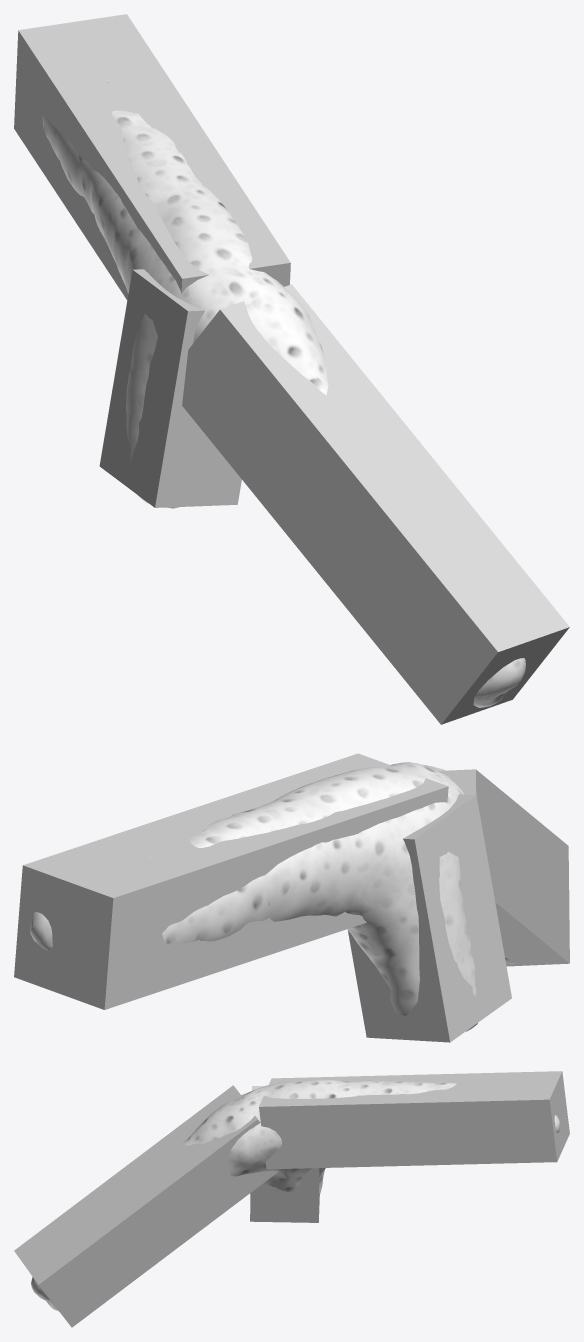
Rendered from Coral_1.glb.
The picture shows the model from 3 angles, top to bottom: view 1: azimuth 30°, elevation 25°; view 2: azimuth 150°, elevation 25°; view 3: azimuth 270°, elevation 25°; orthographic projection. The views are drawn at different scales.
Parts seen in each view (by area): view 1: Cube.001, Cube, A03612_Koralle1.001, Cube.002; view 2: Cube, A03612_Koralle1.001, Cube.002, Cube.001; view 3: Cube, Cube.001, A03612_Koralle1.001, Cube.002.
Boxes of the visible parts, <box> form: Cube.001: <box>182,284,569,724</box>; Cube: <box>14,14,290,299</box>; A03612_Koralle1.001: <box>42,80,525,707</box>; Cube.002: <box>99,269,241,507</box>; Cube: <box>14,753,448,1009</box>; A03612_Koralle1.001: <box>30,762,515,1031</box>; Cube.002: <box>348,794,511,1042</box>; Cube.001: <box>437,769,569,966</box>; Cube: <box>259,1071,569,1169</box>; Cube.001: <box>14,1085,278,1327</box>; A03612_Koralle1.001: <box>31,1080,559,1311</box>; Cube.002: <box>250,1086,319,1222</box>.
Size of the model in its own units: 0.2849 by 0.4476 by 0.9708.
1 material, 1 textured.
